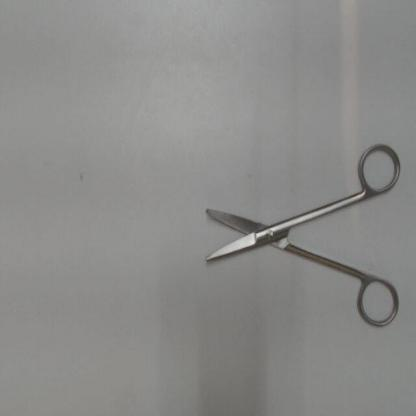Curved Mayo Scissors: (200, 134, 406, 337)
